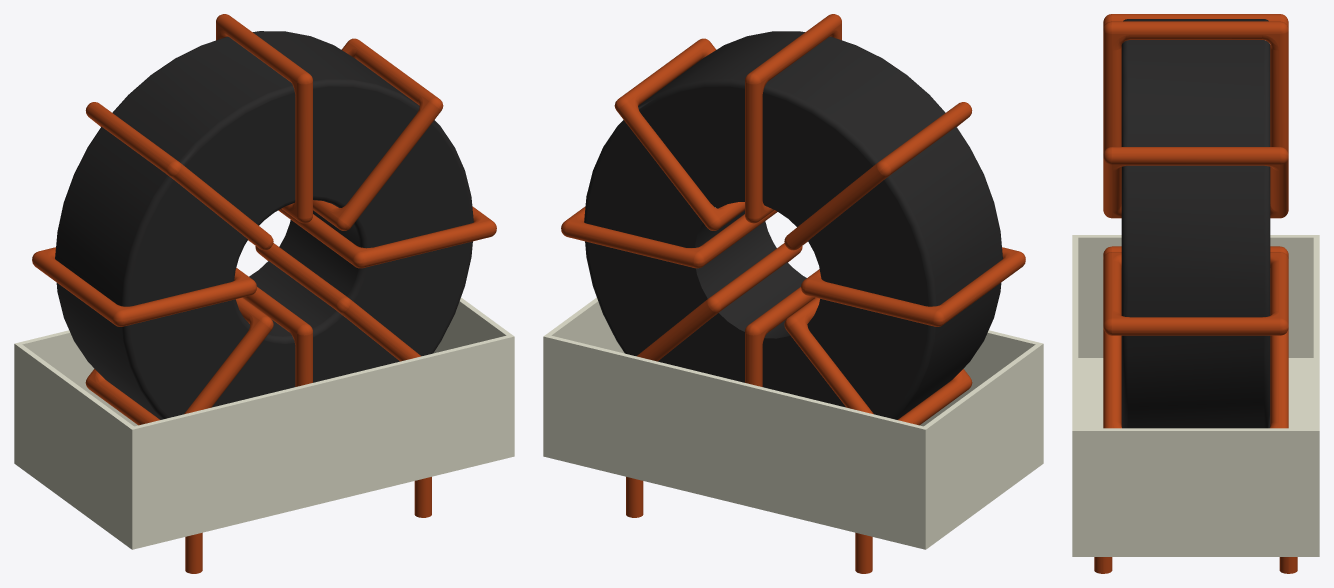
File: kc-l_commonmode_toroid_vertical_l38.1mm_w20.3mm_px15.24mm_py22.86mm_bourns_8100.glb
3 renders of one model, left to right at view 1: azimuth 30°, elevation 25°; view 2: azimuth 150°, elevation 25°; view 3: azimuth 270°, elevation 25°, orthographic. The views are drawn at different scales.
Visible parts, largest first — view 1: 0_0_0_0, 0.75_0.75_0.6666666666666666_0, 0.4166666666666667_0.08333333333333333_0_0; view 2: 0_0_0_0, 0.75_0.75_0.6666666666666666_0, 0.4166666666666667_0.08333333333333333_0_0; view 3: 0_0_0_0, 0.75_0.75_0.6666666666666666_0, 0.4166666666666667_0.08333333333333333_0_0.
Part boxes in pixels (x1=…): 0_0_0_0: x1=55, y1=31, x2=473, y2=419; 0.75_0.75_0.6666666666666666_0: x1=14, y1=297, x2=514, y2=549; 0.4166666666666667_0.08333333333333333_0_0: x1=32, y1=14, x2=496, y2=573; 0_0_0_0: x1=584, y1=31, x2=1002, y2=419; 0.75_0.75_0.6666666666666666_0: x1=543, y1=297, x2=1043, y2=549; 0.4166666666666667_0.08333333333333333_0_0: x1=561, y1=14, x2=1025, y2=573; 0_0_0_0: x1=1121, y1=19, x2=1270, y2=428; 0.75_0.75_0.6666666666666666_0: x1=1072, y1=235, x2=1319, y2=556; 0.4166666666666667_0.08333333333333333_0_0: x1=1094, y1=14, x2=1297, y2=573.
Size of the model in its own units: 3.81 by 4.43 by 2.03.
